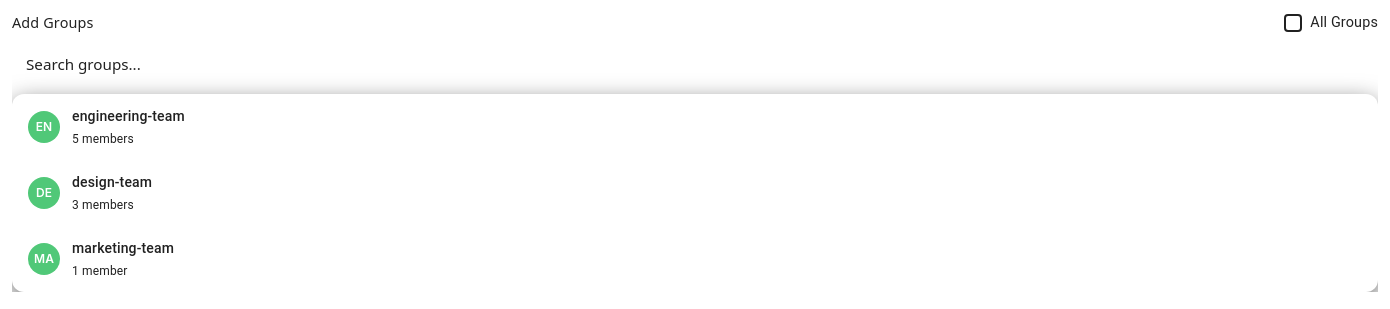
Test case: GroupSelectionPanel › Search Functionality › should filter groups by name
In the field with placeholder "Search groups...": (695, 64) [12, 42, 1378, 86], type "engineering"
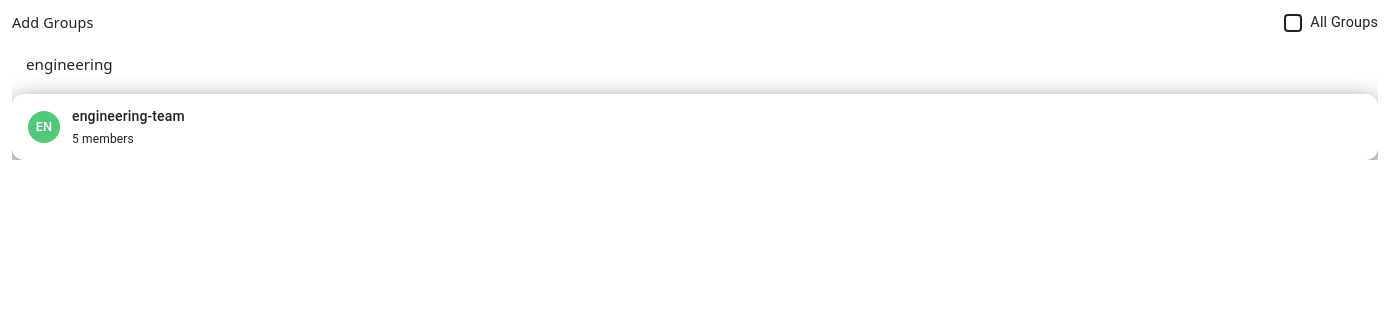
Now the button "design-team" is gone
Now the button "marketing-team" is gone
